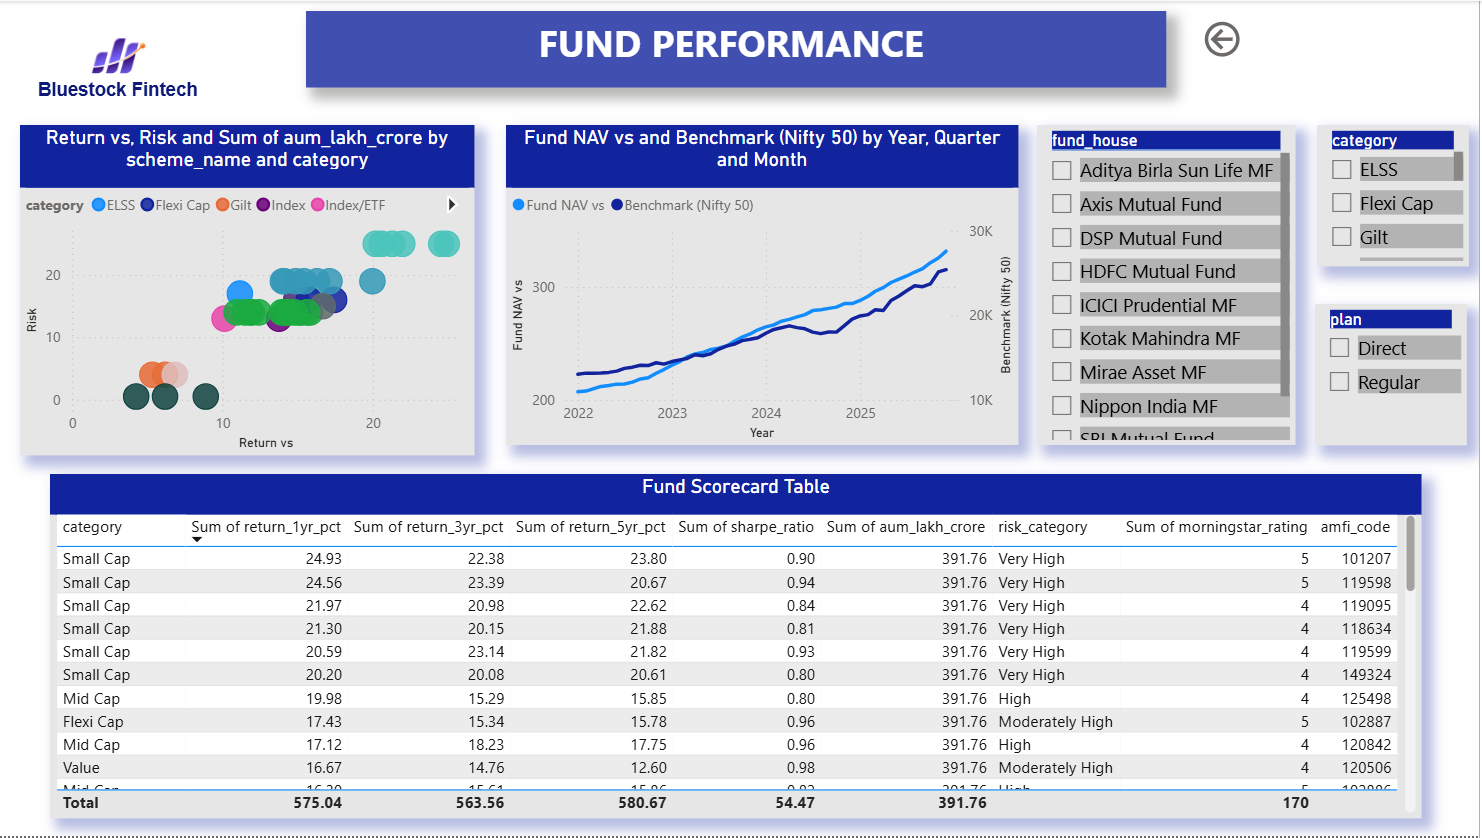

The page's visual inventory and layout, read from the dashboard file:
{"tool":"powerbi","page":{"name":"Fund Performance","canvas":[1280,720],"ordinal":1},"visuals":[{"type":"textbox","box":[268.3,8.3,742,66],"z":0},{"type":"scatterChart","fields":{"X":["Sum(scheme_performance_clean.return_1yr_pct)"],"Category":["scheme_performance_clean.scheme_name"],"Y":["Sum(scheme_performance_clean.std_dev_ann_pct)"],"Series":["scheme_performance_clean.category"],"Size":["Sum(aum_by_fund_house_clean.aum_lakh_crore)"]},"box":[21.6,107,391.6,284.6],"z":1000},{"type":"lineChart","fields":{"Y":["Avg(nav_history_clean.nav)"],"Y2":["Avg(benchmark_indices_clean.close_value)"],"Category":["Date_Table.Date.Variation.Date Hierarchy.Year","Date_Table.Date.Variation.Date Hierarchy.Quarter","Date_Table.Date.Variation.Date Hierarchy.Month","Date_Table.Date.Variation.Date Hierarchy.Day"]},"box":[440.8,107,441.6,276],"z":2000},{"type":"tableEx","title":"Fund Scorecard Table","fields":{"Values":["scheme_performance_clean.category","Sum(scheme_performance_clean.return_1yr_pct)","Sum(scheme_performance_clean.return_3yr_pct)","Sum(scheme_performance_clean.return_5yr_pct)","Sum(scheme_performance_clean.sharpe_ratio)","Sum(aum_by_fund_house_clean.aum_lakh_crore)","fund_master_clean.risk_category","Sum(scheme_performance_clean.morningstar_rating)","fund_master_clean.amfi_code"]},"box":[47.4,408,1183.3,296.7],"z":3000},{"type":"slicer","fields":{"Values":["fund_master_clean.fund_house"]},"box":[898.8,107,223.4,276],"z":4000},{"type":"slicer","fields":{"Values":["scheme_performance_clean.category"]},"box":[1140.3,107,131,122],"z":5000},{"type":"slicer","fields":{"Values":["scheme_performance_clean.plan"]},"box":[1138.5,261.3,131,122],"z":6000},{"type":"actionButton","box":[1038.3,13.3,100,40],"z":7000},{"type":"image","box":[13.3,16.7,186.7,61.7],"z":8000},{"type":"textbox","box":[23.3,63.3,165,28.3],"z":9000}]}

Visuals, with their boxes in screenshot pixels (x1, y1, x2, y2), scaled from the page's 1280x720 canvas onto the 1482x838 screenshot:
textbox: locate(311, 10, 1170, 86)
scatterChart - Sum(scheme_performance_clean.return_1yr_pct) x scheme_performance_clean.scheme_name: locate(25, 125, 478, 456)
lineChart - Avg(nav_history_clean.nav) x Avg(benchmark_indices_clean.close_value): locate(510, 125, 1022, 446)
"Fund Scorecard Table" tableEx: locate(55, 475, 1425, 820)
slicer - fund_master_clean.fund_house: locate(1041, 125, 1299, 446)
slicer - scheme_performance_clean.category: locate(1320, 125, 1472, 267)
slicer - scheme_performance_clean.plan: locate(1318, 304, 1470, 446)
actionButton: locate(1202, 15, 1318, 62)
image: locate(15, 19, 232, 91)
textbox: locate(27, 74, 218, 107)
